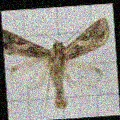Spodoptera litura: (6, 20, 112, 110)
